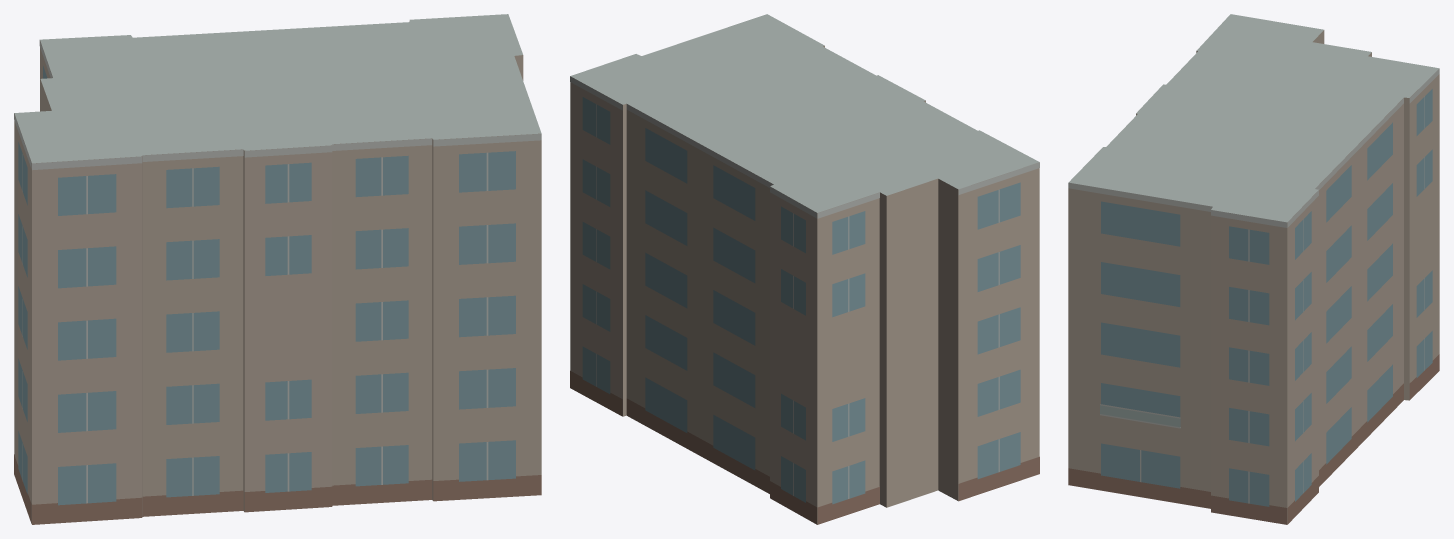
Rendered from survey-upis-32665404.glb.
3 views of the same model, side by side, from view 1: azimuth 30°, elevation 25°; view 2: azimuth 150°, elevation 25°; view 3: azimuth 270°, elevation 25° (orthographic). The views are drawn at different scales.
Parts seen in each view (by area): view 1: survey-upis-32665404.tmp; view 2: survey-upis-32665404.tmp; view 3: survey-upis-32665404.tmp.
Part boxes in pixels (x1,y1,x2,y2): survey-upis-32665404.tmp: (14, 14, 541, 524); survey-upis-32665404.tmp: (570, 14, 1039, 524); survey-upis-32665404.tmp: (1068, 14, 1439, 524).
Bounding box in the file's own units: 19.14 × 12.95 × 14.41.
